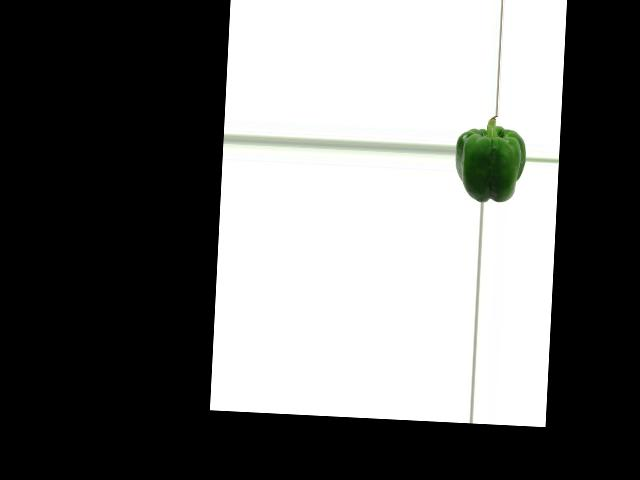bell_pepper: (454, 115, 527, 204)
